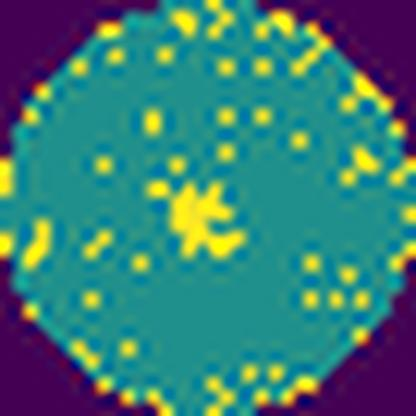Center: (163, 180, 255, 264)
